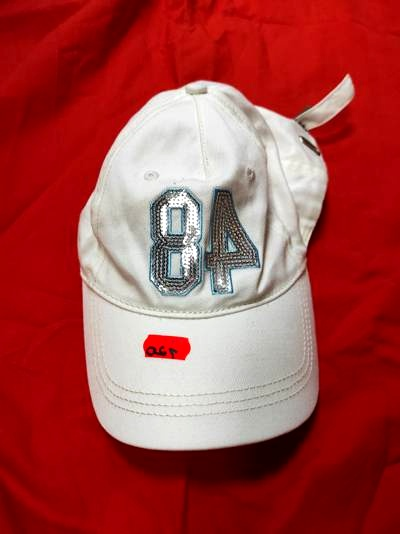Hat: (50, 66, 365, 457)
